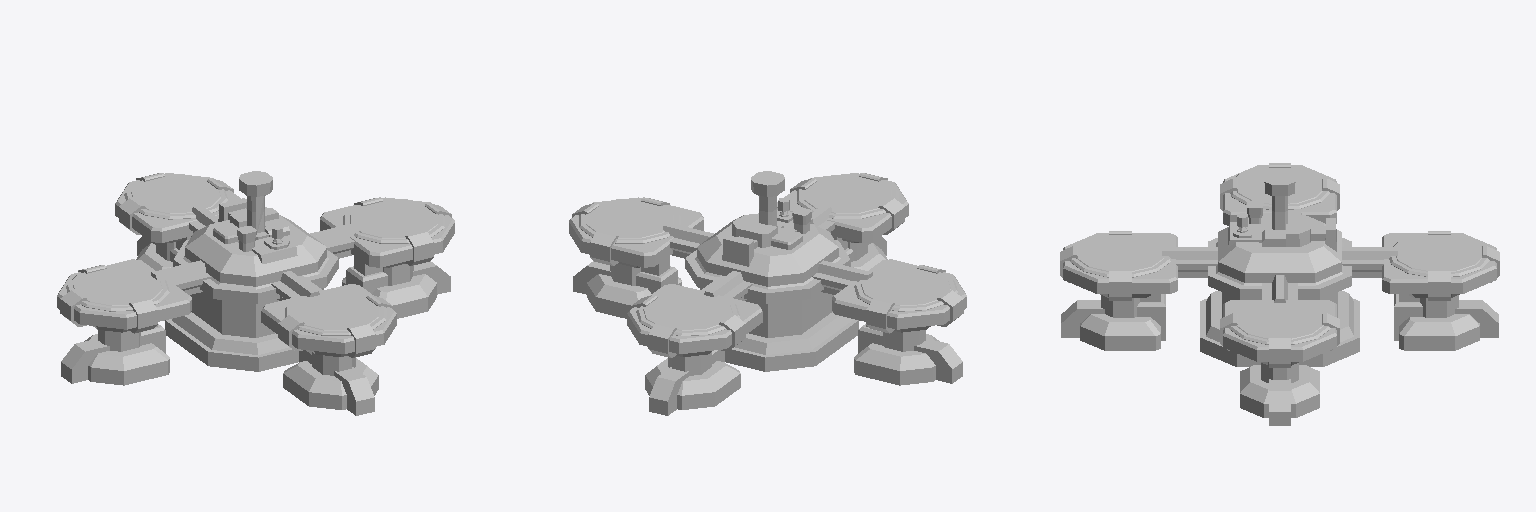
The model's file is starport_small_collision.obj.
3 views of the same model, side by side, from view 1: azimuth 30°, elevation 25°; view 2: azimuth 150°, elevation 25°; view 3: azimuth 270°, elevation 25° (orthographic).
Visible parts, largest first — view 1: collision; view 2: collision; view 3: collision.
Boxes of the visible parts, x1,y1,x2,y2 form: collision: [57, 171, 454, 415]; collision: [569, 171, 966, 415]; collision: [1060, 163, 1499, 425].
Size of the model in its own units: 413 by 161 by 413.